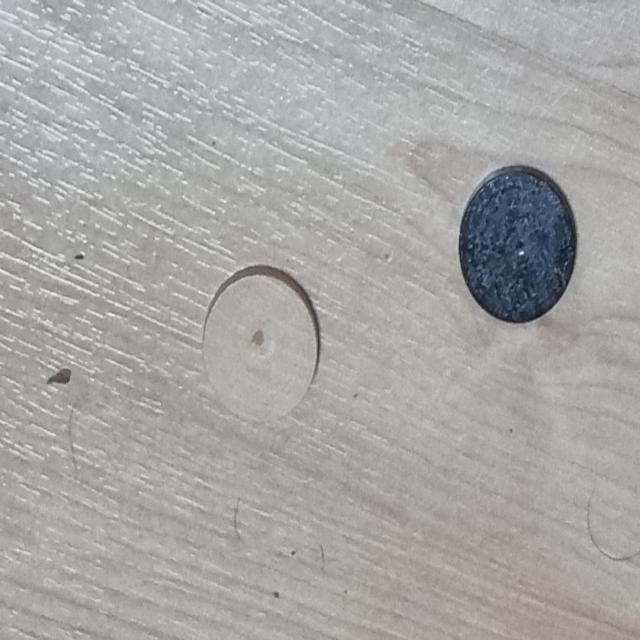black: (429, 137, 593, 341)
white: (176, 240, 334, 440)
